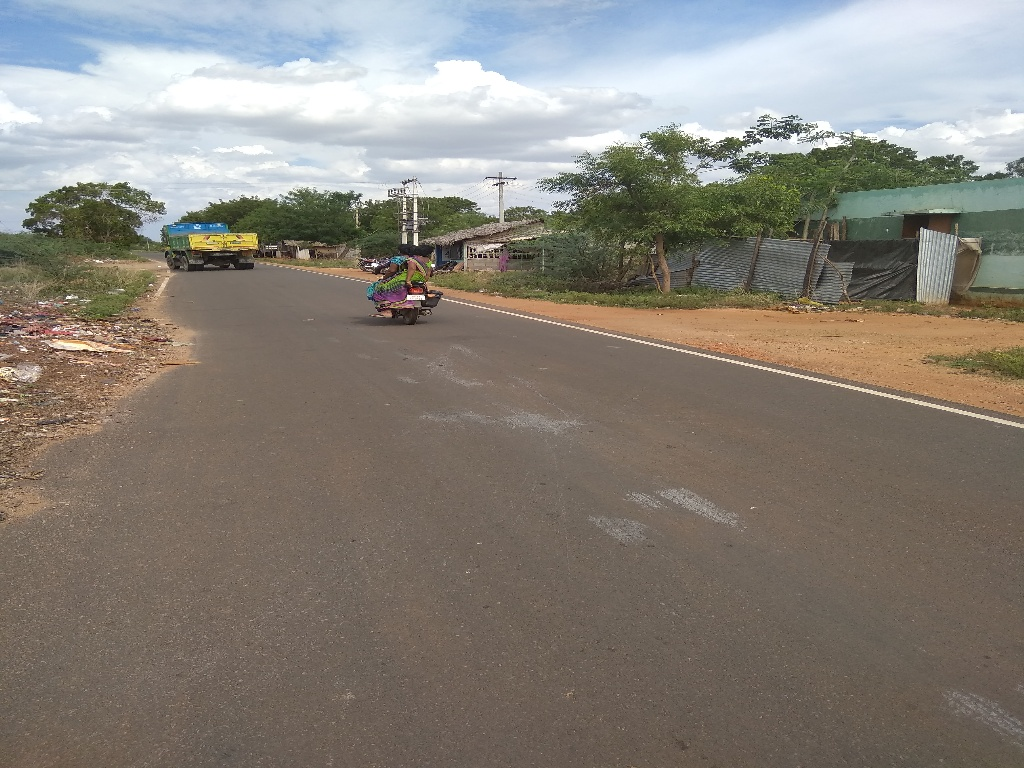biker: (355, 211, 461, 340)
nohelmet: (392, 236, 419, 266), (417, 230, 439, 264)
